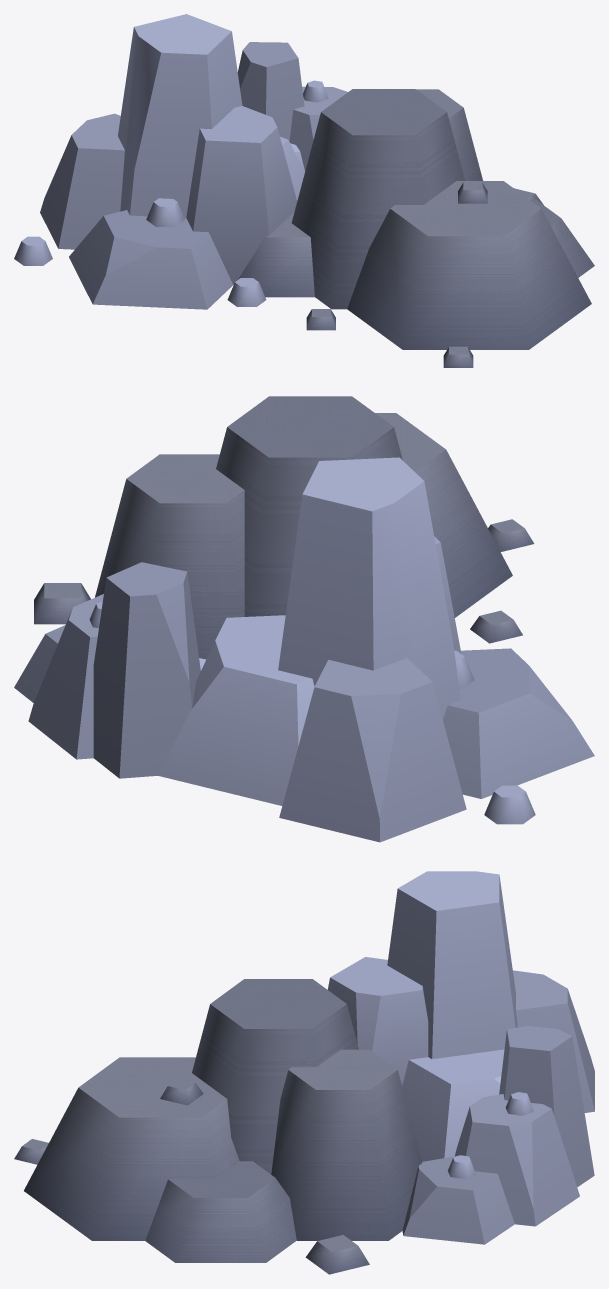
File: quarry_1.glb
The picture shows the model from 3 angles, top to bottom: view 1: azimuth 30°, elevation 25°; view 2: azimuth 150°, elevation 25°; view 3: azimuth 270°, elevation 25°; orthographic projection. The views are drawn at different scales.
Parts seen in each view (by area): view 1: quarry_1; view 2: quarry_1; view 3: quarry_1.
Part boxes in pixels (box(x1,y1,x2,y2)): quarry_1: box(14, 14, 594, 367); quarry_1: box(14, 396, 594, 842); quarry_1: box(14, 871, 594, 1274).
Size of the model in its own units: 1.04 by 0.4535 by 1.07.
3 materials, 3 textured.
